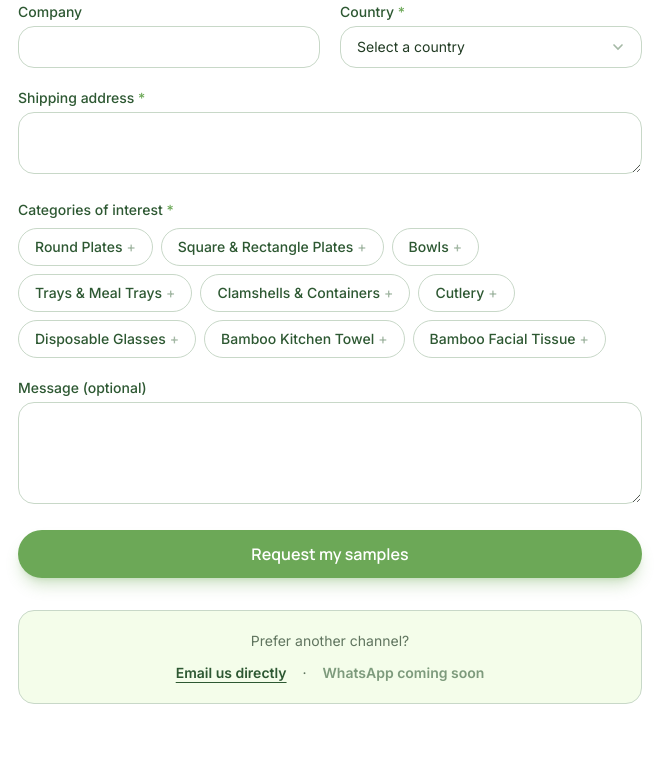
RequestSamplesPage › shows validation errors when submitted empty
(page scrolled)
Step 1. Click the button "Request my samples" → (330, 554), box [18,530,642,578]
(page scrolled)
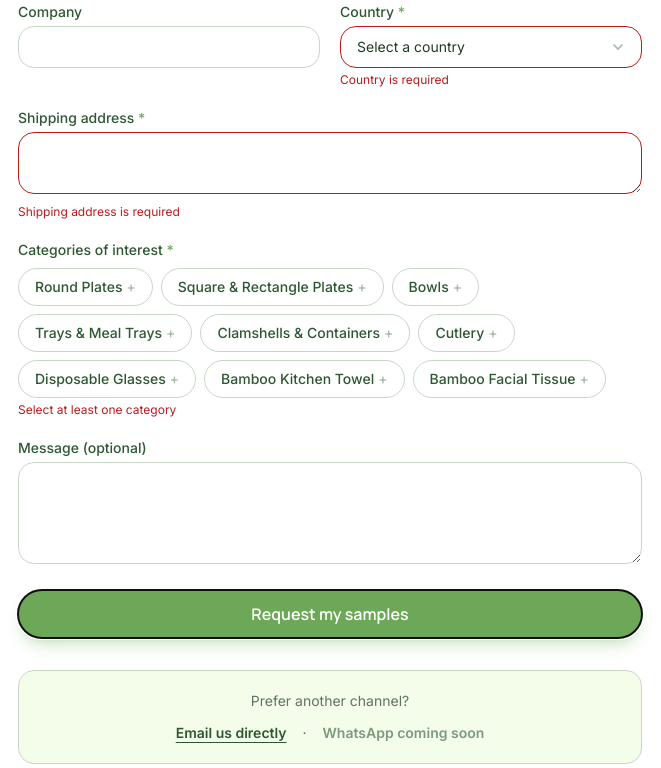
Now the text "Country is required" is shown, box [340,72,449,87]
Now the text "Shipping address is required" is shown, box [18,204,180,219]
Now the text "Select at least one category" is shown, box [18,402,176,417]
